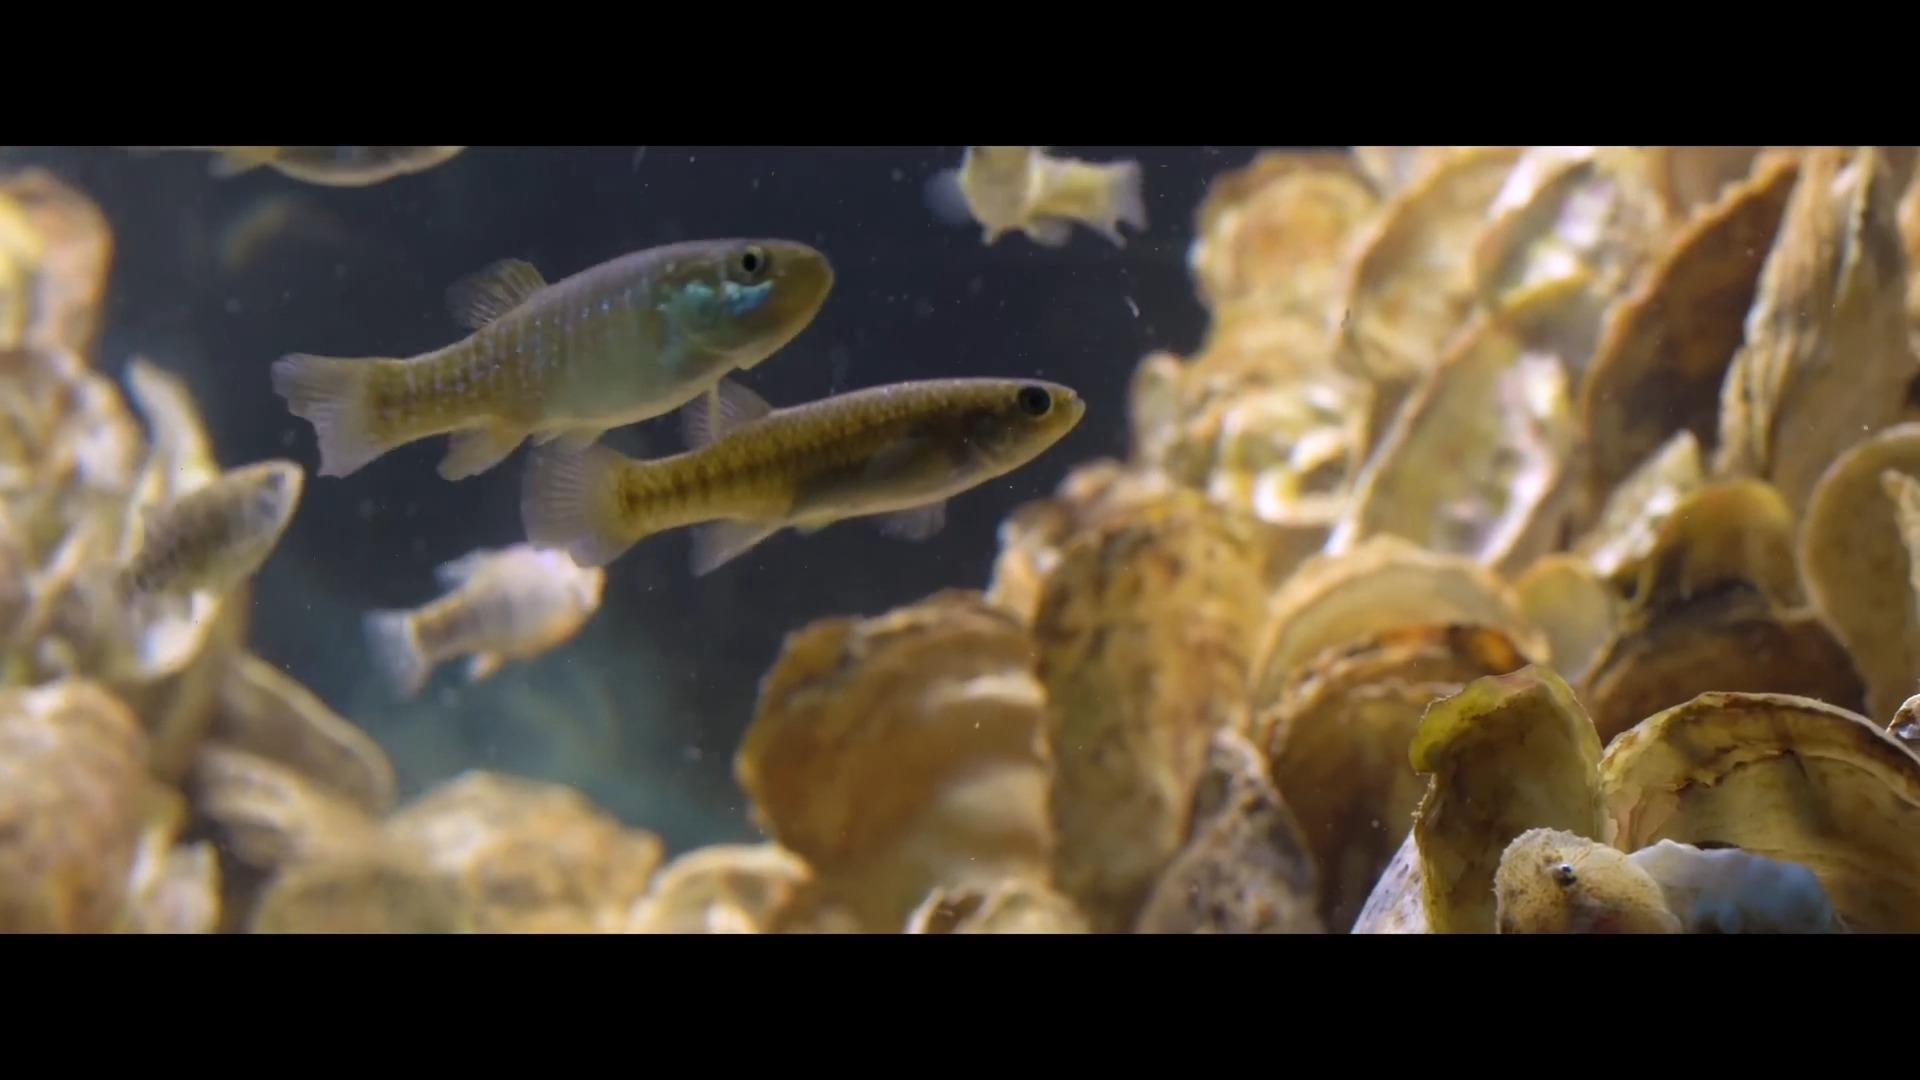Oyster: (738, 592, 1059, 932), (1575, 479, 1859, 745), (1600, 692, 1919, 930), (1578, 167, 1793, 505), (1726, 145, 1907, 514), (1249, 537, 1547, 729), (1399, 663, 1610, 935), (1345, 319, 1563, 564), (1328, 149, 1538, 382), (190, 646, 393, 816), (1, 167, 111, 356)
